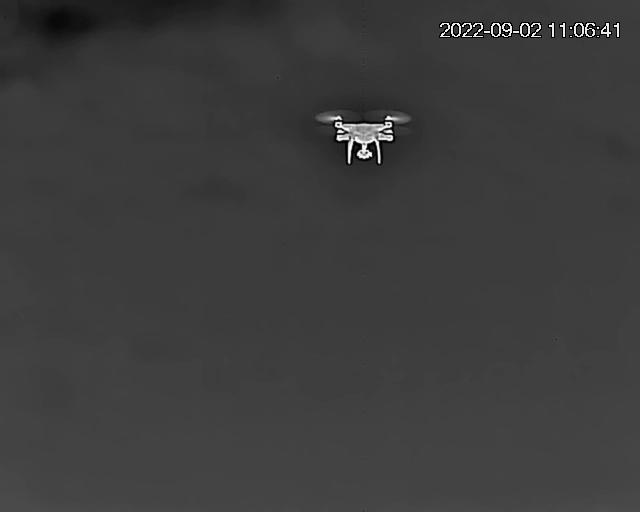DJI-Phantom: (312, 105, 415, 166)
